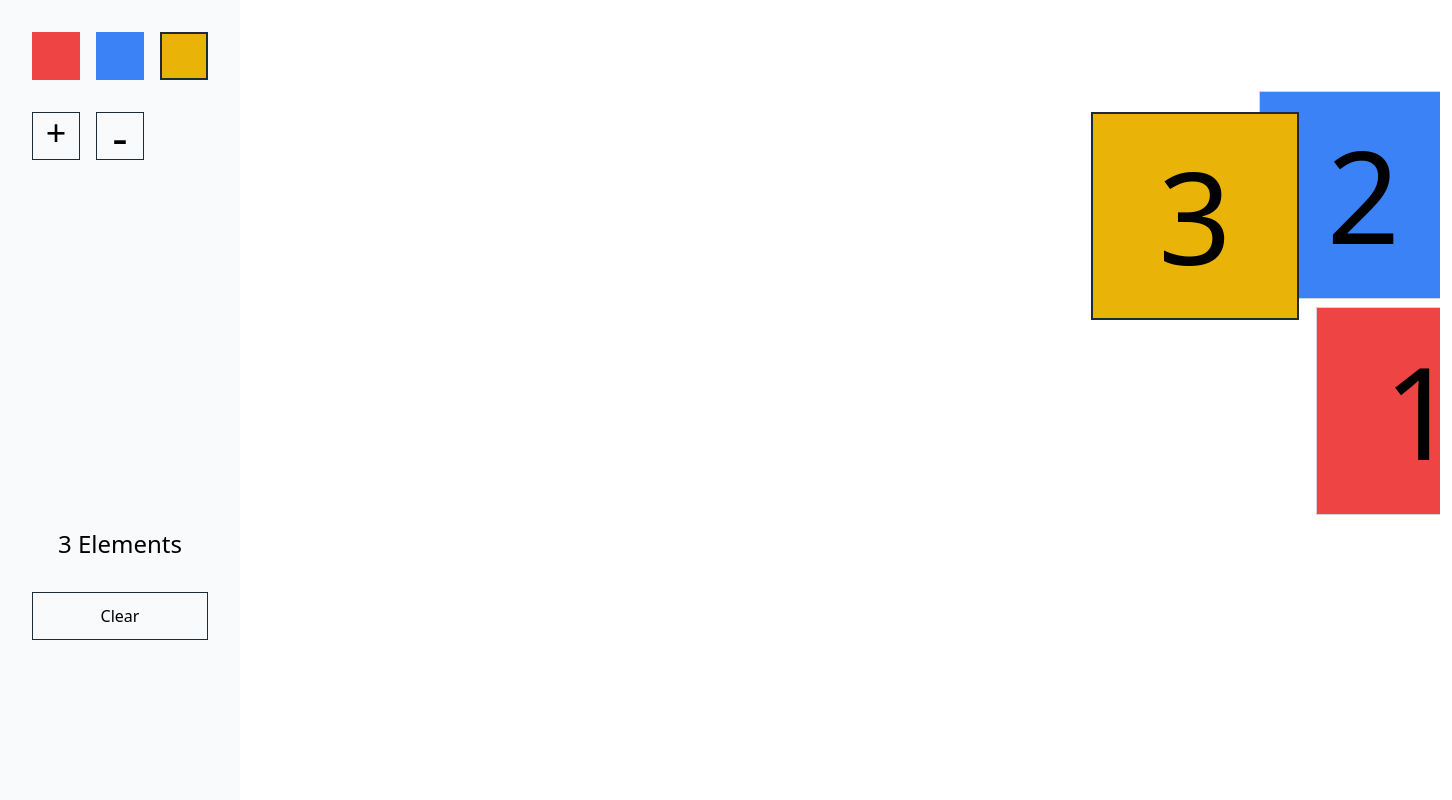
Draw colorful boxes › Remove last box
The image size is (1452, 800).
What coordinates should you click on to do the following:
click the element with test id "minus-button"
I would click on:
 (120, 136)
Its box is [96,112,144,160].
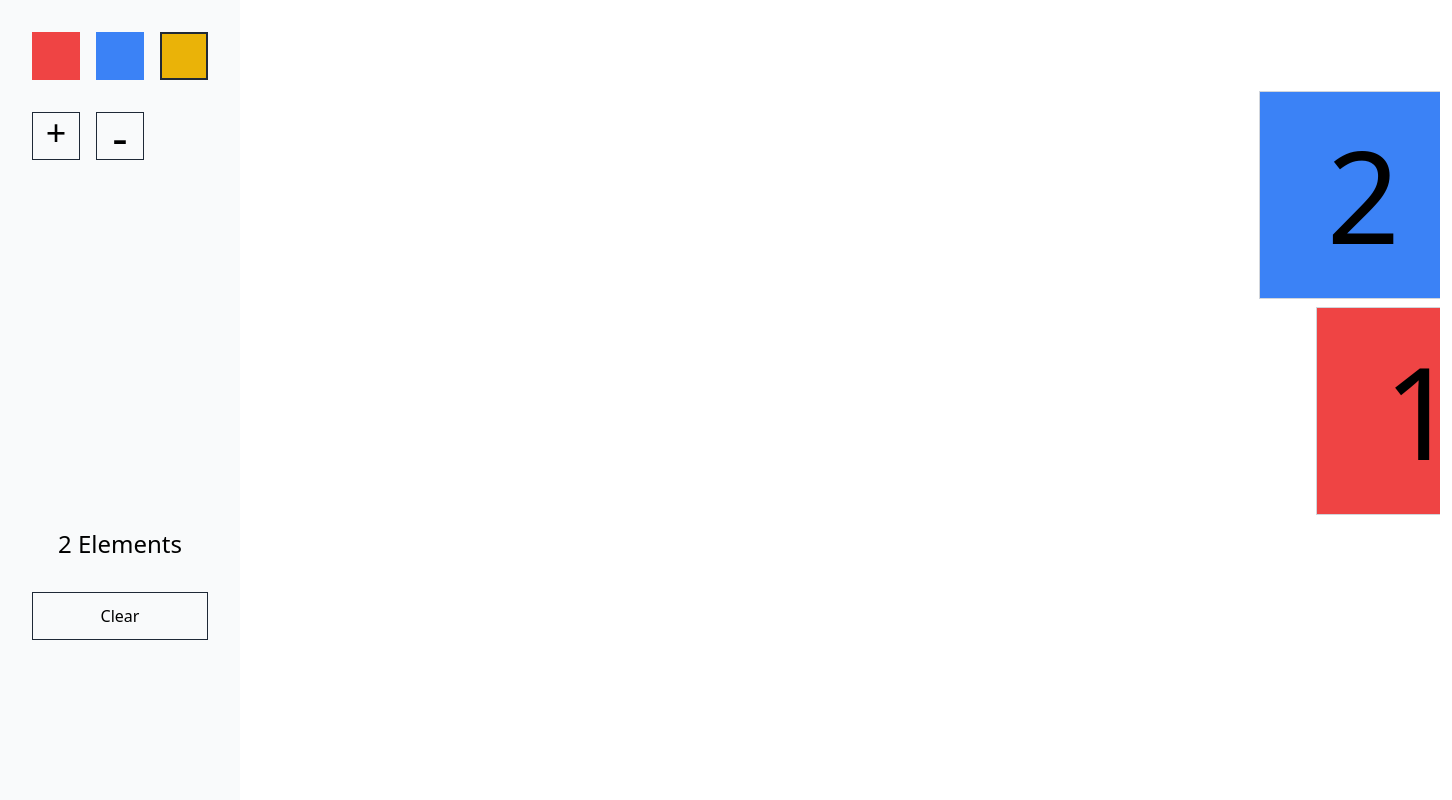
Expected: the text "3" is gone
